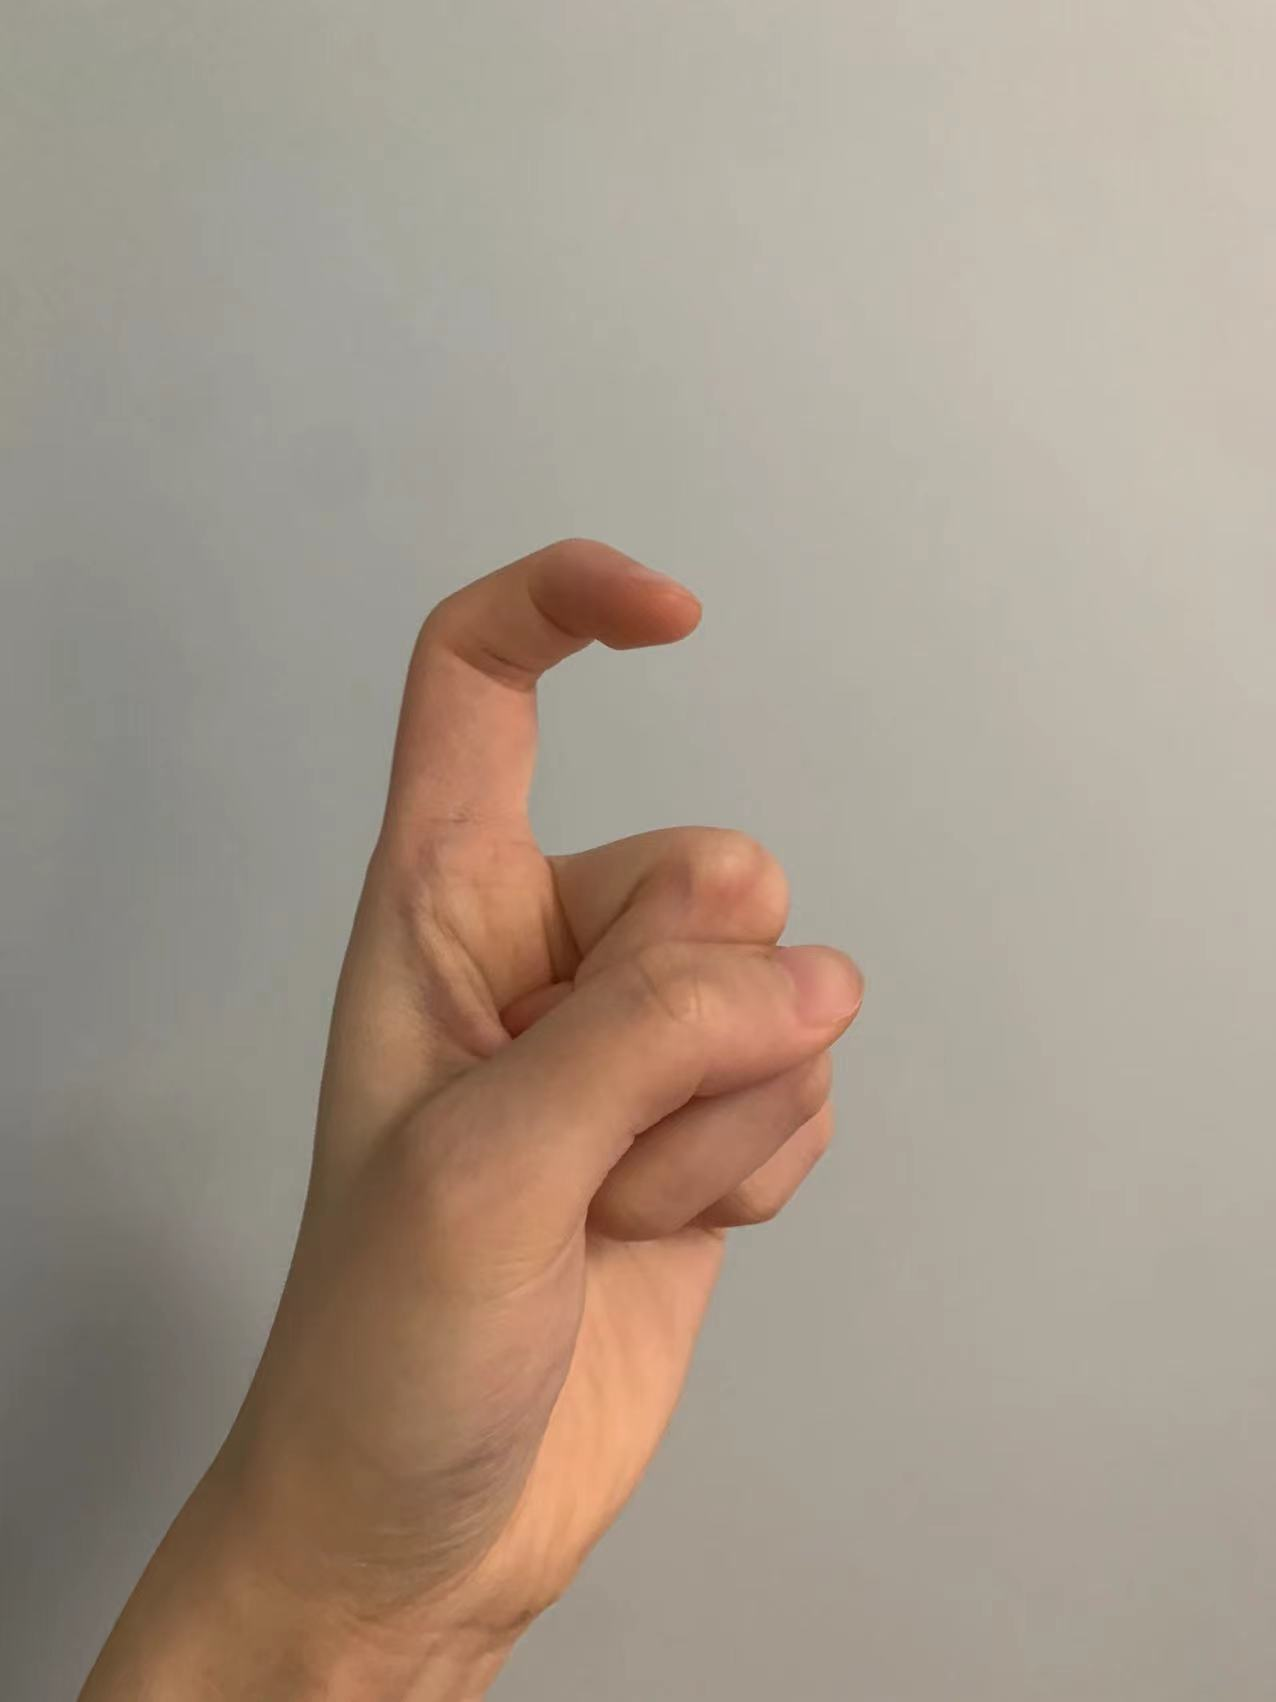anticlockwise: (236, 523, 878, 1545)
